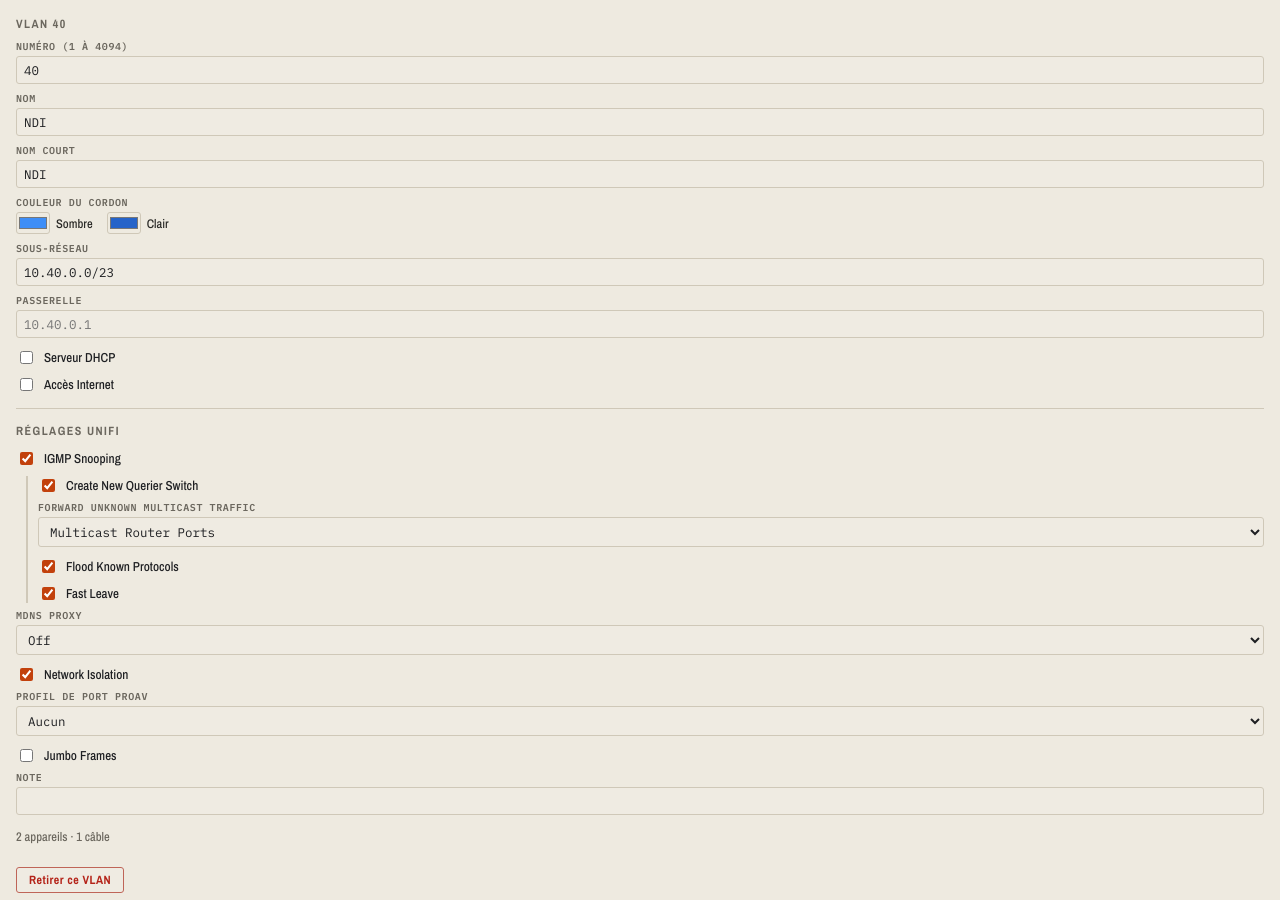
Scenario: fiche VLAN › règle les options UniFi sous leurs noms exacts
Click the switch labelled "Fast Leave". click: (48, 594)
box: [42, 587, 55, 600]
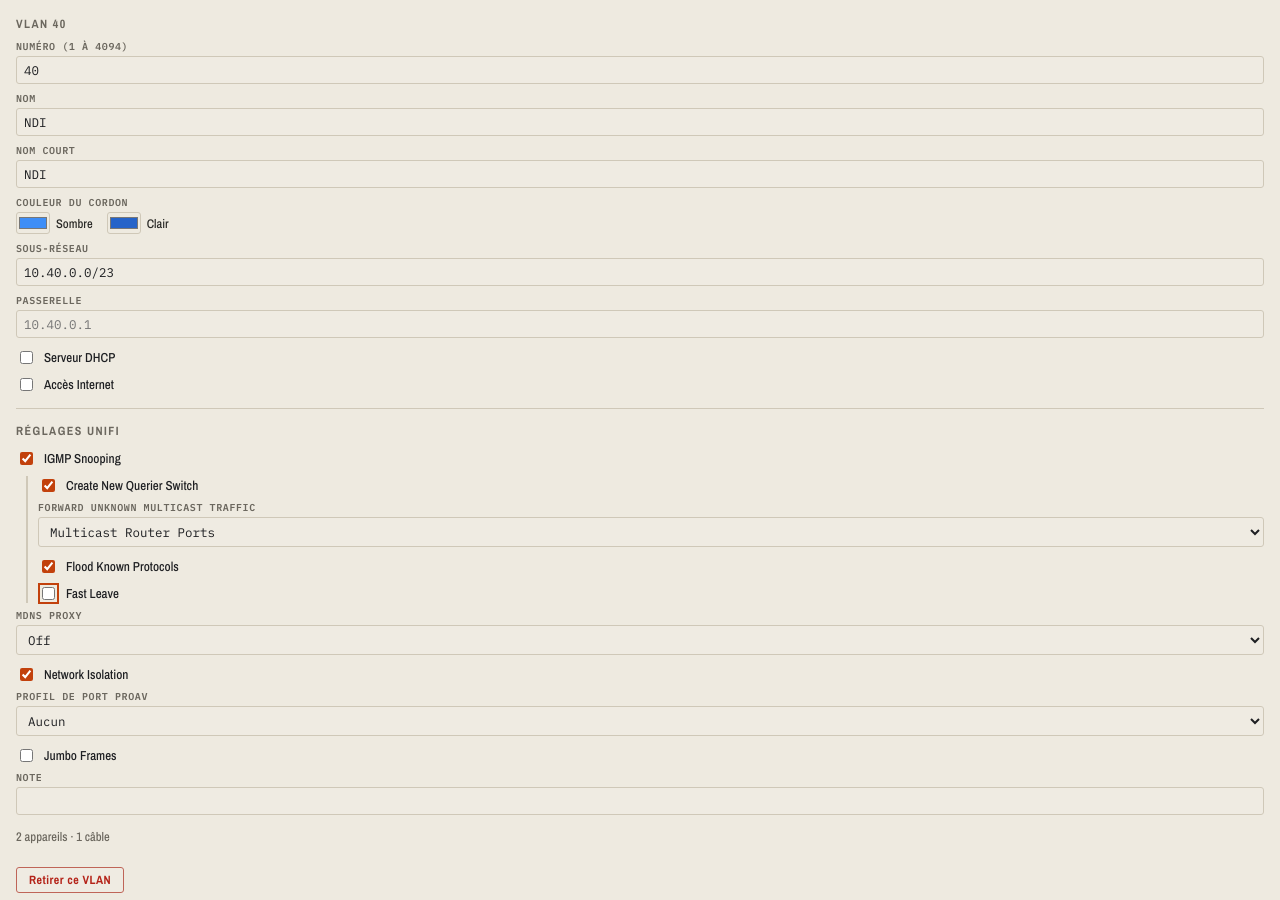
Select "Drop" in the dropdown labelled "Forward Unknown Multicast Traffic". click: (651, 532)
box: [38, 517, 1264, 547]
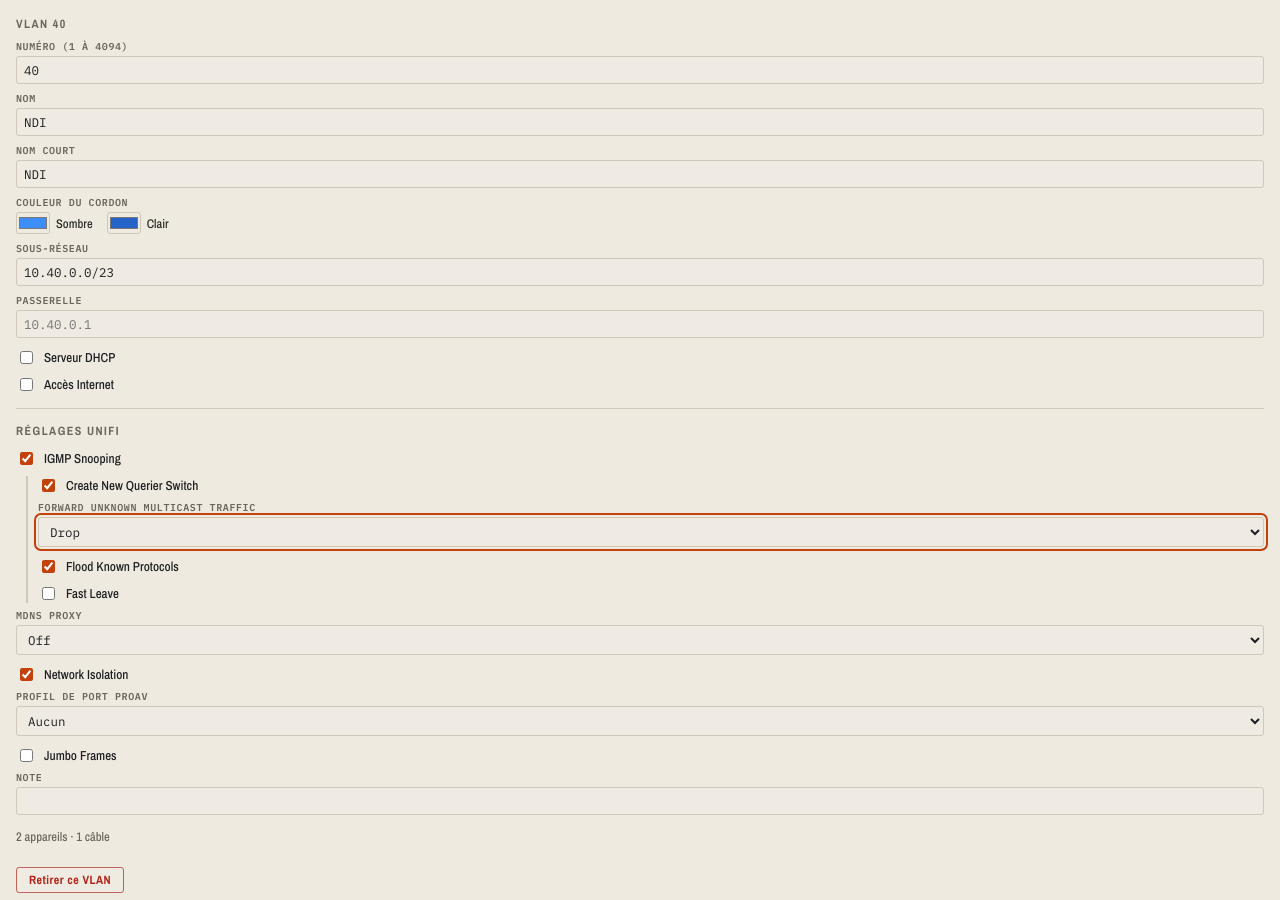
Select "Dante Audio" in the dropdown labelled "ProAV". click: (640, 721)
box: [16, 706, 1264, 736]
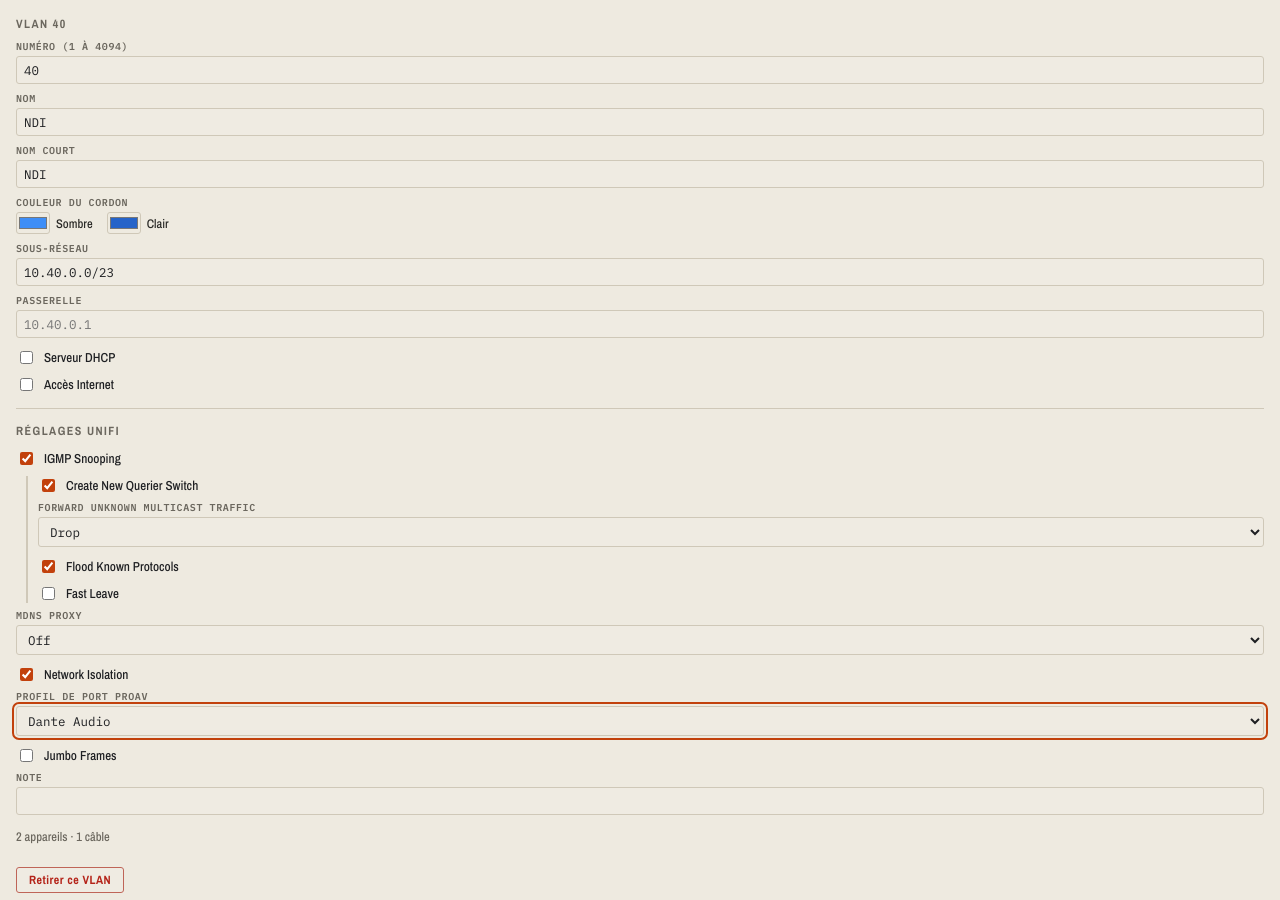
Click the switch labelled "IGMP Snooping". click: (26, 458)
box: [20, 452, 33, 465]
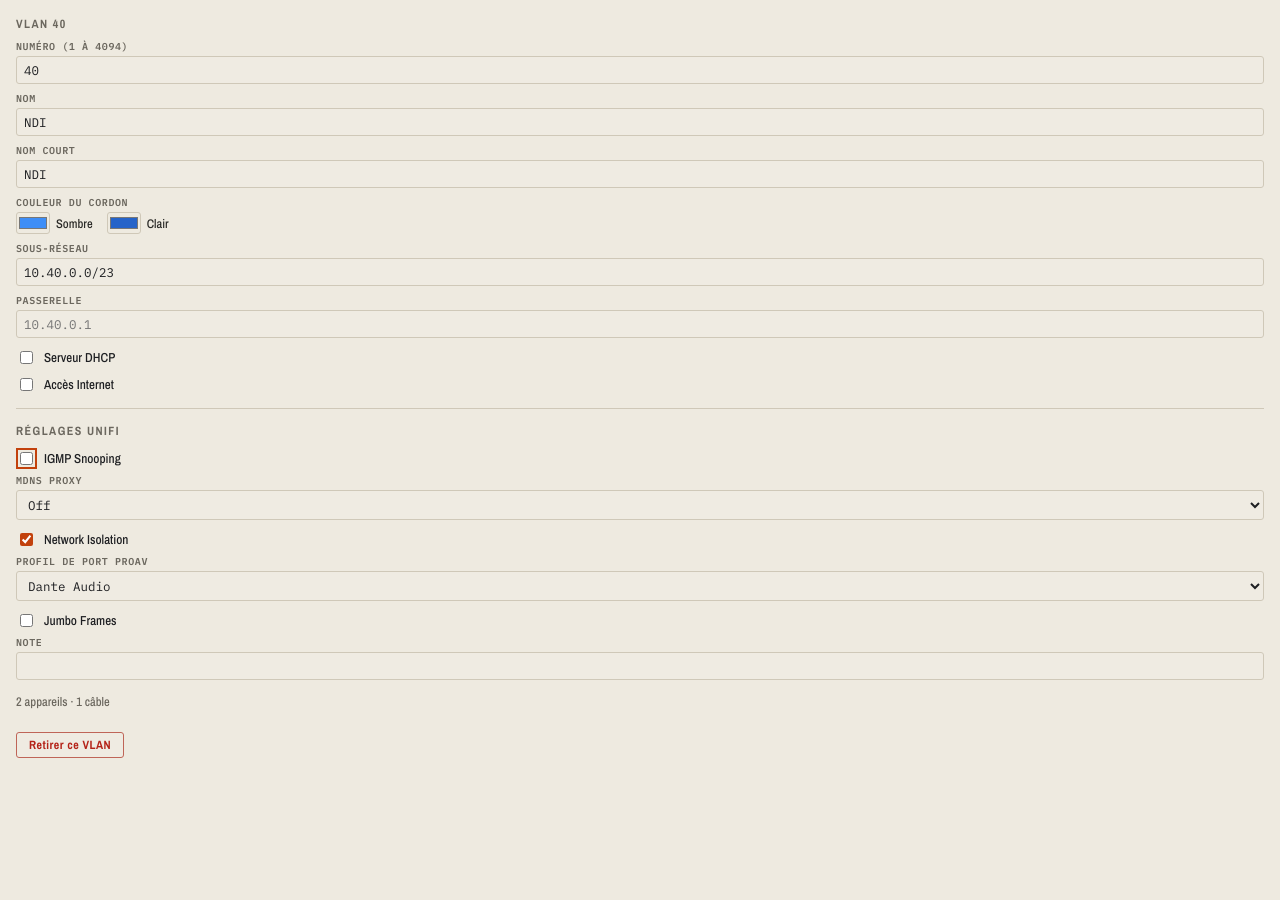
Expected: the text "Create New Querier Switch" is gone
